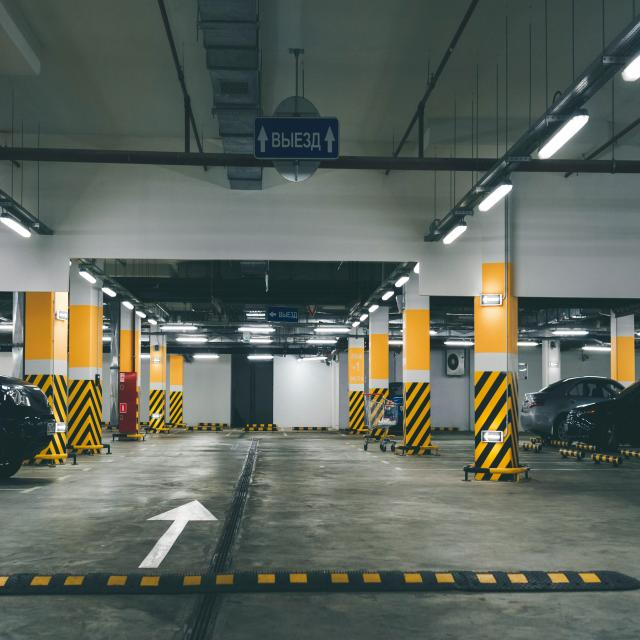pillar: (466, 262, 519, 480), (67, 264, 103, 455), (24, 291, 69, 423), (402, 272, 430, 446), (119, 304, 141, 433), (149, 330, 167, 429), (369, 307, 389, 396), (347, 337, 365, 433), (169, 354, 185, 427), (47, 428, 67, 457)
rebar: (320, 0, 640, 241), (0, 0, 273, 190), (110, 260, 381, 316)
